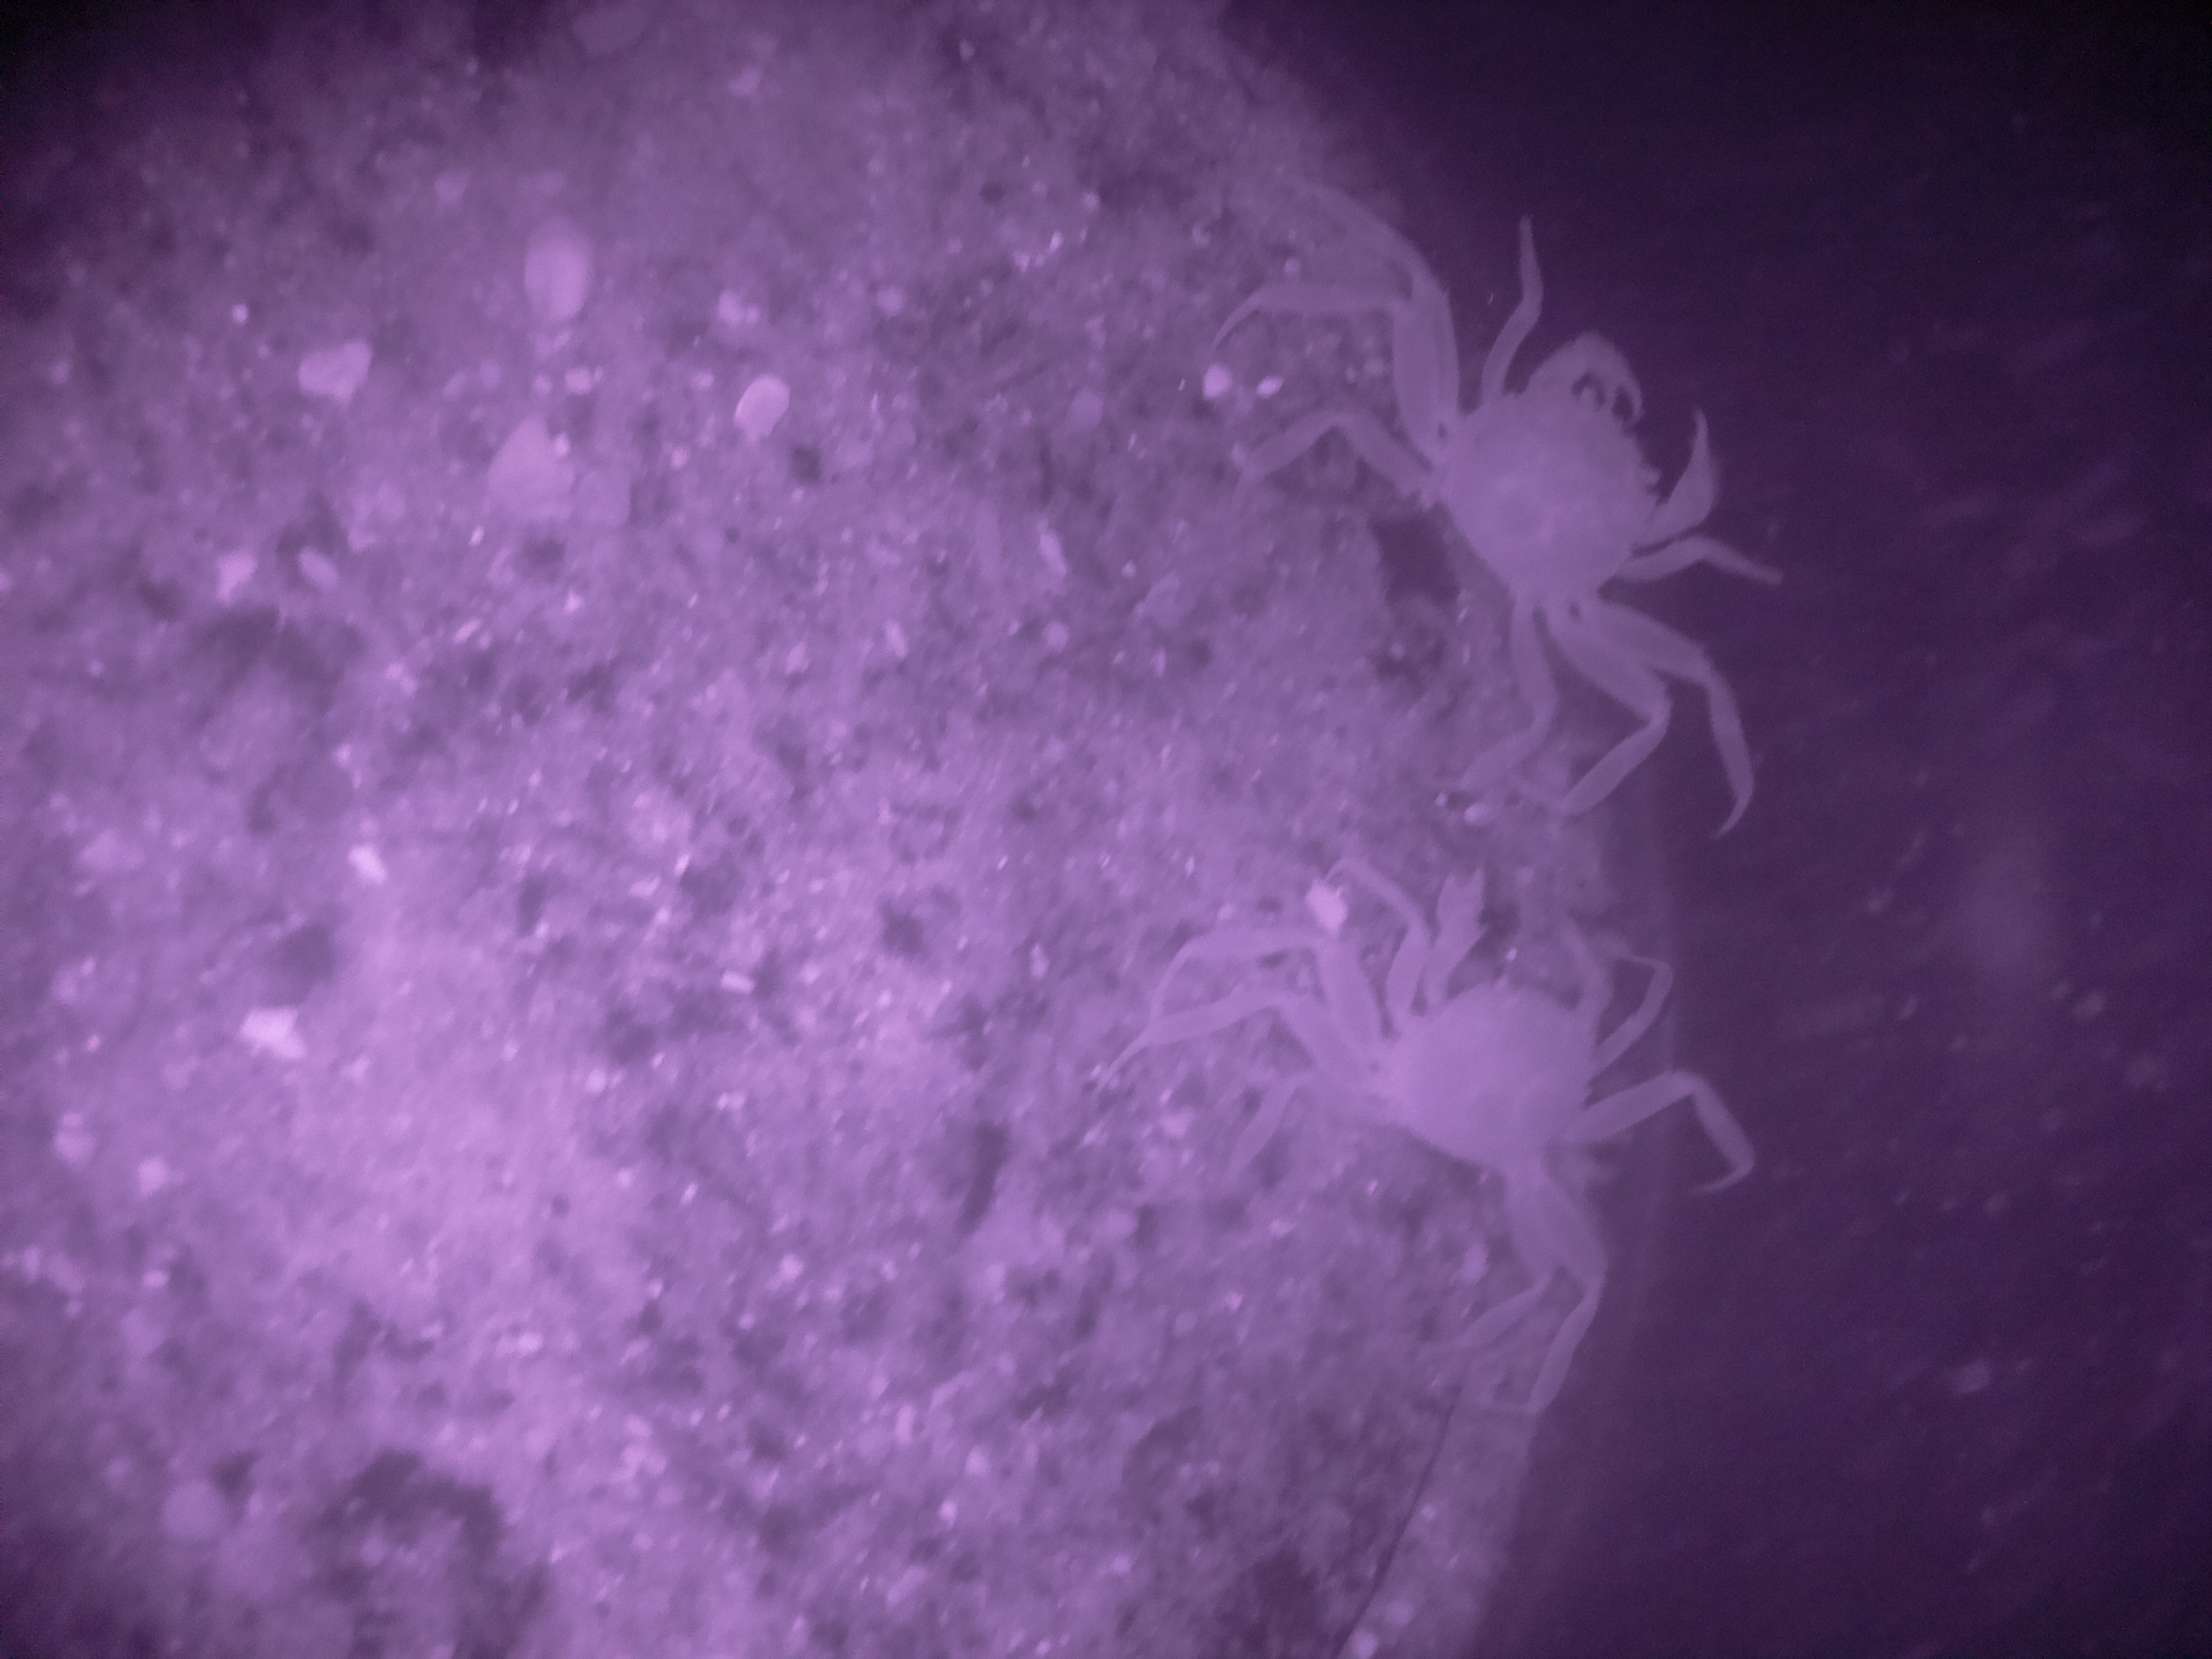Crab: (1350, 277, 1759, 711), (1324, 795, 1672, 1256)
